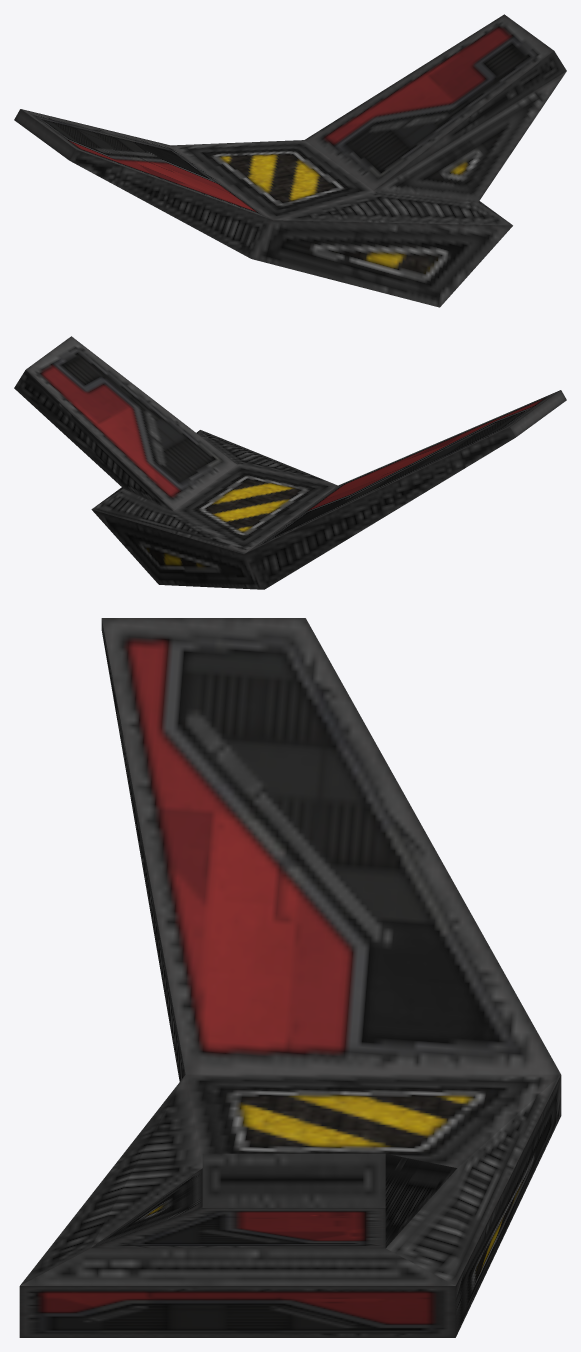
File: BFP_ConstTailFin01_UR.FBX
3 renders of one model, top to bottom at view 1: azimuth 30°, elevation 25°; view 2: azimuth 150°, elevation 25°; view 3: azimuth 270°, elevation 25°, orthographic. The views are drawn at different scales.
Parts seen in each view (by area): view 1: BFP_ConstTailFin01_UR; view 2: BFP_ConstTailFin01_UR; view 3: BFP_ConstTailFin01_UR.
Boxes of the visible parts, x1,y1,x2,y2 form: BFP_ConstTailFin01_UR: (14, 14, 566, 307); BFP_ConstTailFin01_UR: (14, 336, 566, 589); BFP_ConstTailFin01_UR: (19, 618, 561, 1337).
Size of the model in its own units: 195 by 80.04 by 94.96.
1 material, 1 textured.
